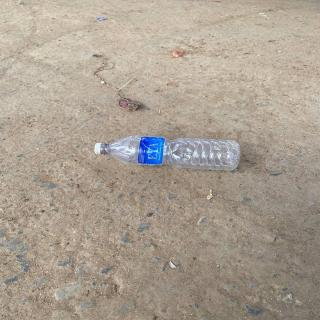Plastic-bottle: (94, 135, 244, 174)
